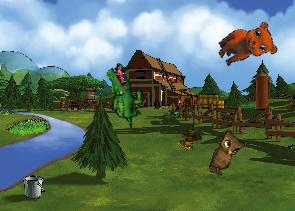bear: (212, 14, 282, 79)
crocodile: (91, 60, 156, 129)
owl: (207, 127, 248, 180)
